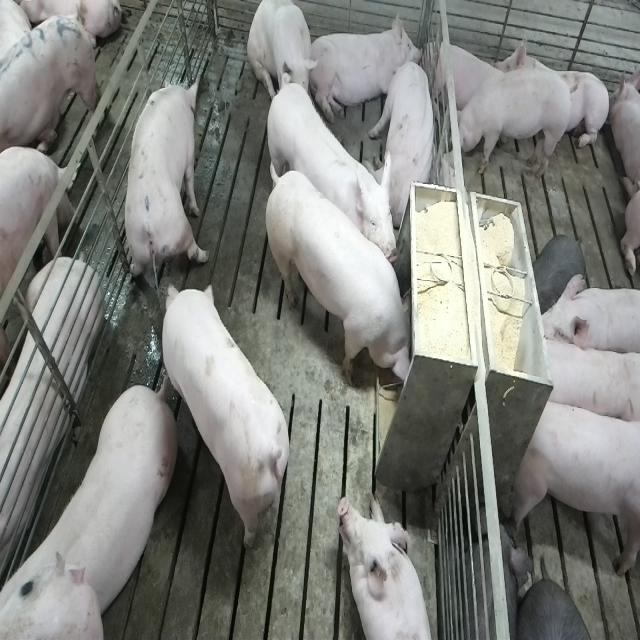Feeding: (269, 164, 422, 390)
Sitting: (373, 58, 437, 218), (247, 1, 320, 116)
Standing: (5, 375, 181, 632), (162, 282, 295, 552), (263, 77, 398, 270), (511, 394, 638, 582), (121, 72, 208, 292), (0, 1, 99, 162), (449, 70, 577, 177), (537, 330, 637, 428), (536, 275, 640, 359), (516, 580, 598, 638)
Sternal_lying: (336, 492, 436, 640), (496, 30, 608, 156), (310, 11, 424, 128), (427, 34, 501, 120)
